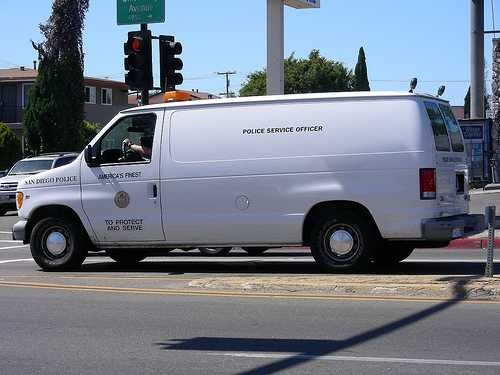Police Van: (17, 79, 488, 281)
